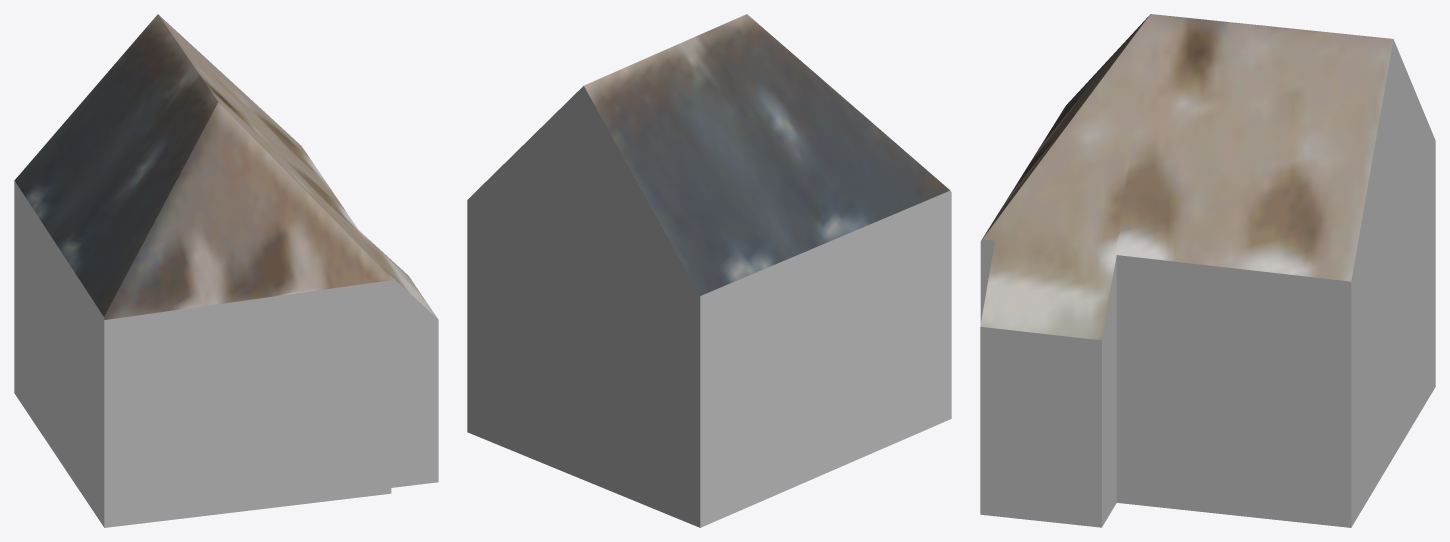
Rendered from DEBW_0010007Txf5.gltf.
The picture shows the model from 3 angles, left to right: view 1: azimuth 30°, elevation 25°; view 2: azimuth 150°, elevation 25°; view 3: azimuth 270°, elevation 25°; orthographic projection. The views are drawn at different scales.
Parts seen in each view (by area): view 1: Z_UP; view 2: Z_UP; view 3: Z_UP.
Part boxes in pixels (left/top/right/bottom): Z_UP: left=14, top=14, right=438, bottom=527; Z_UP: left=467, top=14, right=951, bottom=527; Z_UP: left=980, top=14, right=1435, bottom=527.
Bounding box in the file's own units: 12.67 × 13.66 × 13.48.
Materials: 2 (1 with a texture image).
